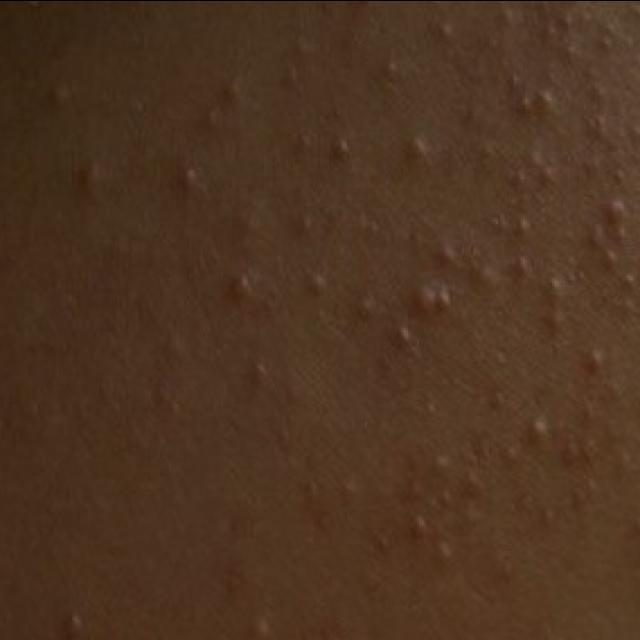keratosis pilaris: (180, 0, 640, 584)
